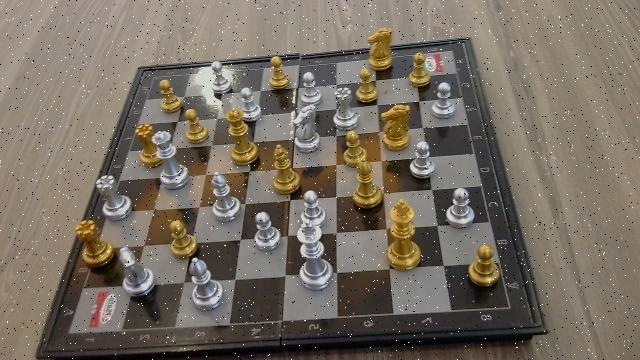black_bishop: (351, 160, 383, 209), (270, 144, 300, 194)
black_king: (386, 198, 423, 272)
black_knight: (378, 103, 412, 152), (365, 27, 395, 73)
black_pawn: (466, 244, 500, 290), (167, 219, 198, 260), (182, 108, 207, 144), (407, 52, 432, 88), (158, 79, 183, 114), (342, 132, 367, 164), (356, 68, 378, 104), (268, 56, 289, 91)
black_queen: (227, 110, 259, 166)
black_rook: (73, 218, 115, 268), (134, 123, 152, 151)
white_bishop: (186, 258, 222, 311), (208, 172, 239, 224)
white_king: (297, 221, 325, 291)
white_knight: (118, 243, 155, 295), (289, 100, 320, 154)
white_pawn: (444, 187, 475, 230), (251, 211, 279, 252), (408, 140, 435, 181), (430, 81, 456, 120), (299, 190, 325, 224), (209, 61, 230, 98), (240, 87, 261, 122), (299, 72, 319, 105)
white_queen: (150, 130, 188, 190)
white_rook: (92, 174, 132, 222), (332, 87, 357, 131)
